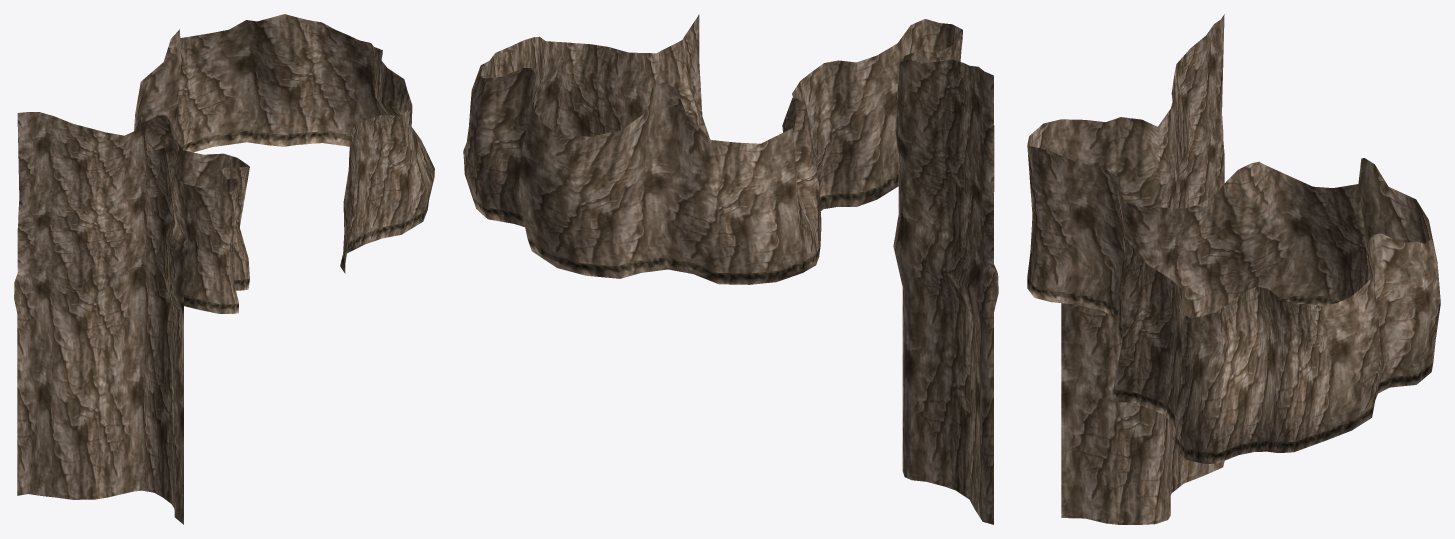
Rendered from OVERHILL_A_01_OBJECT39.obj.
The picture shows the model from 3 angles, left to right: view 1: azimuth 30°, elevation 25°; view 2: azimuth 150°, elevation 25°; view 3: azimuth 270°, elevation 25°; orthographic projection. The views are drawn at different scales.
Parts seen in each view (by area): view 1: Object39; view 2: Object39; view 3: Object39.
Boxes of the visible parts, <box> form: Object39: <box>14,14,434,524</box>; Object39: <box>463,14,998,524</box>; Object39: <box>1027,14,1440,524</box>.
Size of the model in its own units: 3414 by 2954 by 2464.
